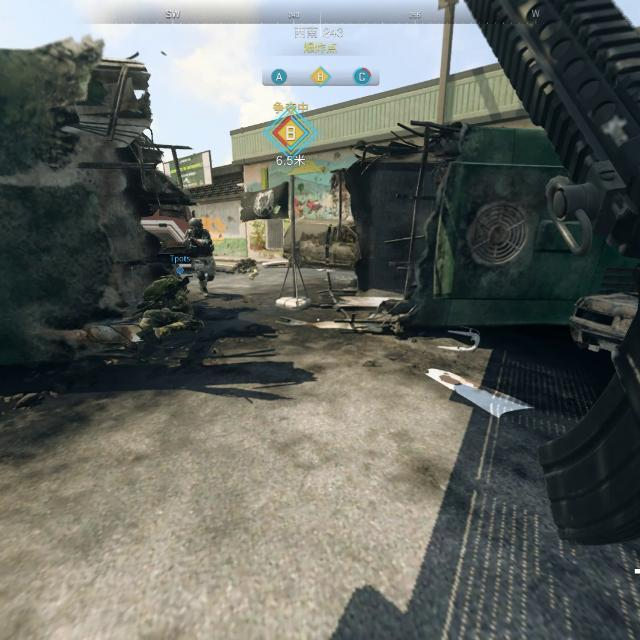MW2_body: (186, 217, 215, 296)
